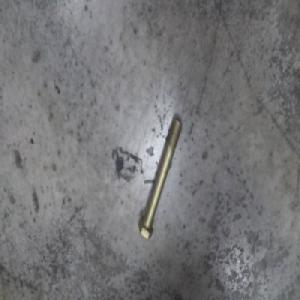Bolt: (140, 114, 185, 240)
